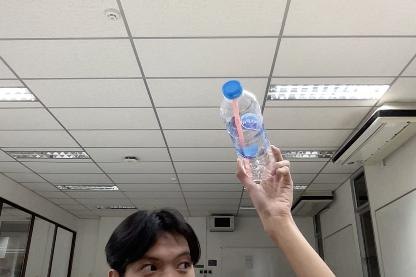Plastic Bottle: (216, 78, 280, 184)
